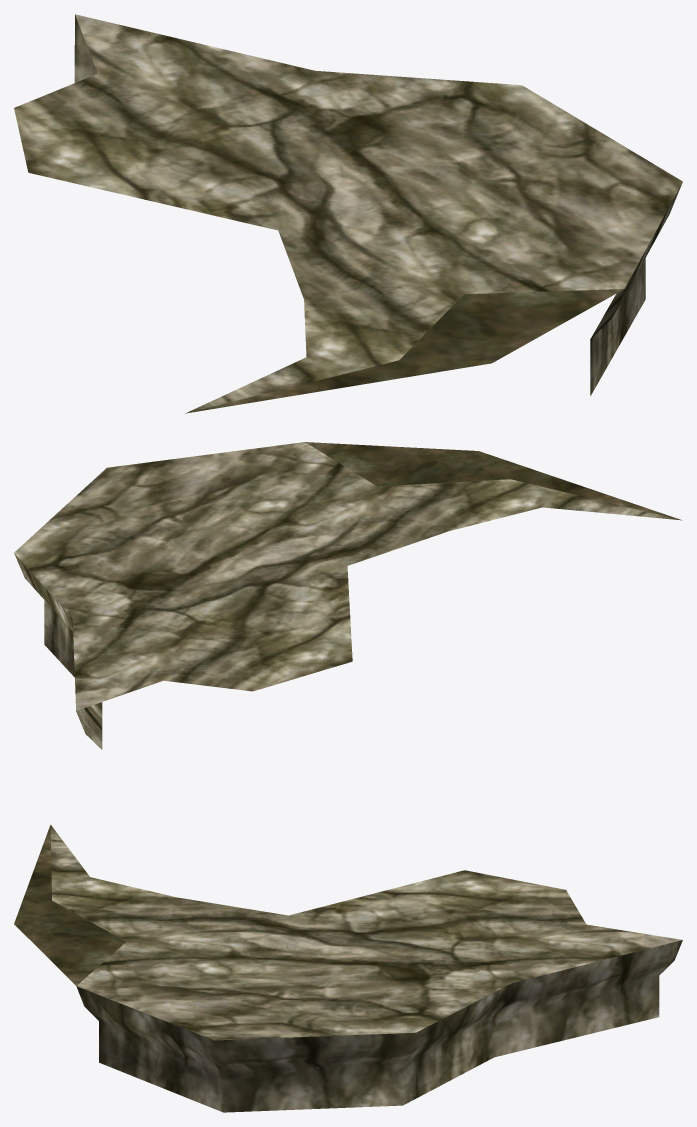
Rendered from CB_NEWPLAYSURFACE_CB_PLAYSURFACE136.fbx.
3 renders of one model, top to bottom at view 1: azimuth 30°, elevation 25°; view 2: azimuth 150°, elevation 25°; view 3: azimuth 270°, elevation 25°, orthographic. The views are drawn at different scales.
Parts seen in each view (by area): view 1: CB_NEWPLAYSURFACE_CB_PLAYSURFACE136; view 2: CB_NEWPLAYSURFACE_CB_PLAYSURFACE136; view 3: CB_NEWPLAYSURFACE_CB_PLAYSURFACE136.
Boxes of the visible parts, box(x1,y1,x2,y2) form: CB_NEWPLAYSURFACE_CB_PLAYSURFACE136: box(14, 14, 682, 413); CB_NEWPLAYSURFACE_CB_PLAYSURFACE136: box(14, 442, 681, 749); CB_NEWPLAYSURFACE_CB_PLAYSURFACE136: box(14, 824, 682, 1112).
Bounding box in the file's own units: 111545 × 20000 × 145899.
Materials: 3 (3 with a texture image).
